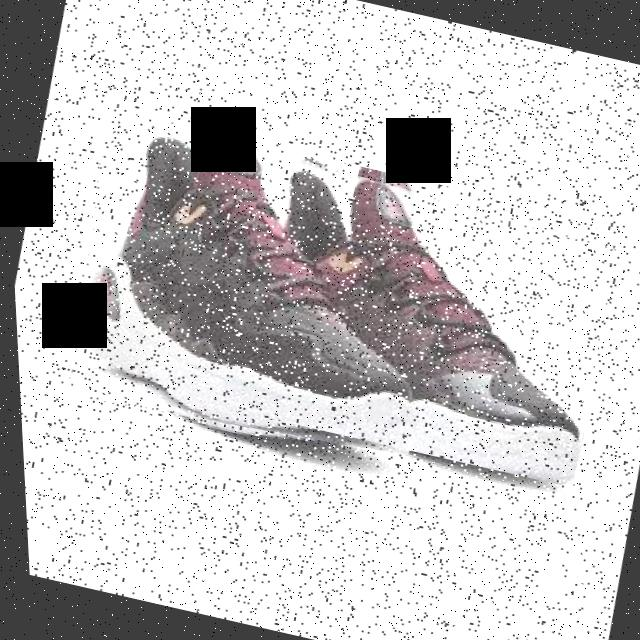shoe: (39, 109, 465, 472), (205, 150, 626, 488)
